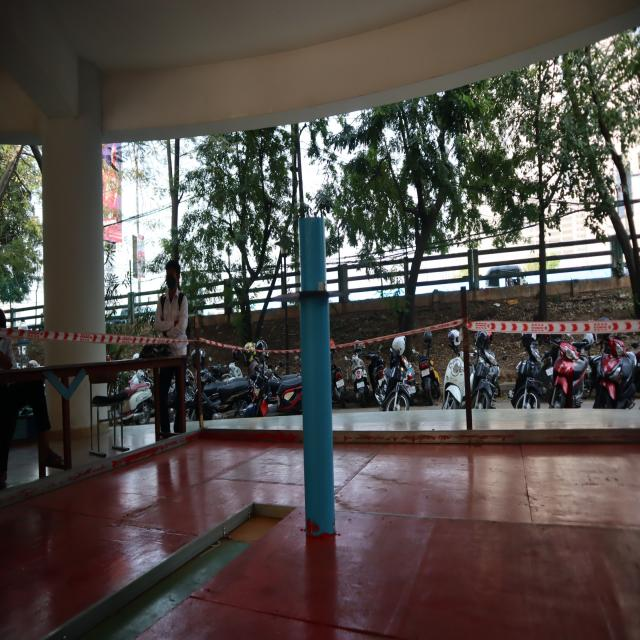pole: (273, 210, 355, 380)
